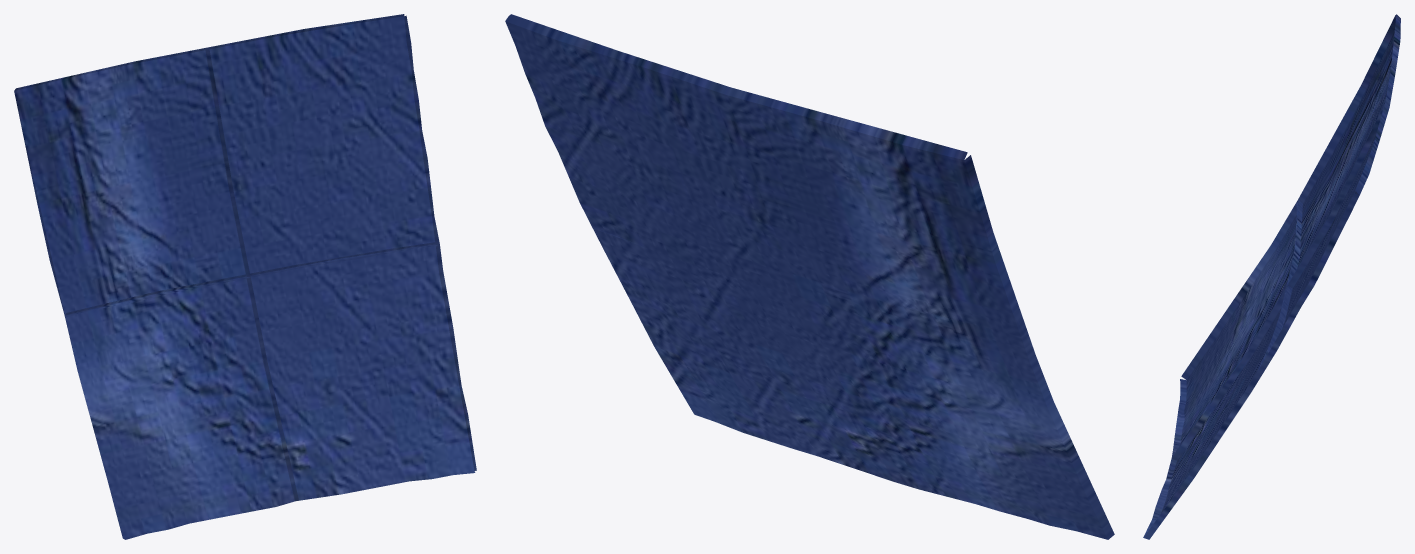
3 renders of one model, left to right at view 1: azimuth 30°, elevation 25°; view 2: azimuth 150°, elevation 25°; view 3: azimuth 270°, elevation 25°, orthographic. The views are drawn at different scales.
Size of the model in its own units: 1164300 by 1116334 by 710905.
1 material, 1 textured.
